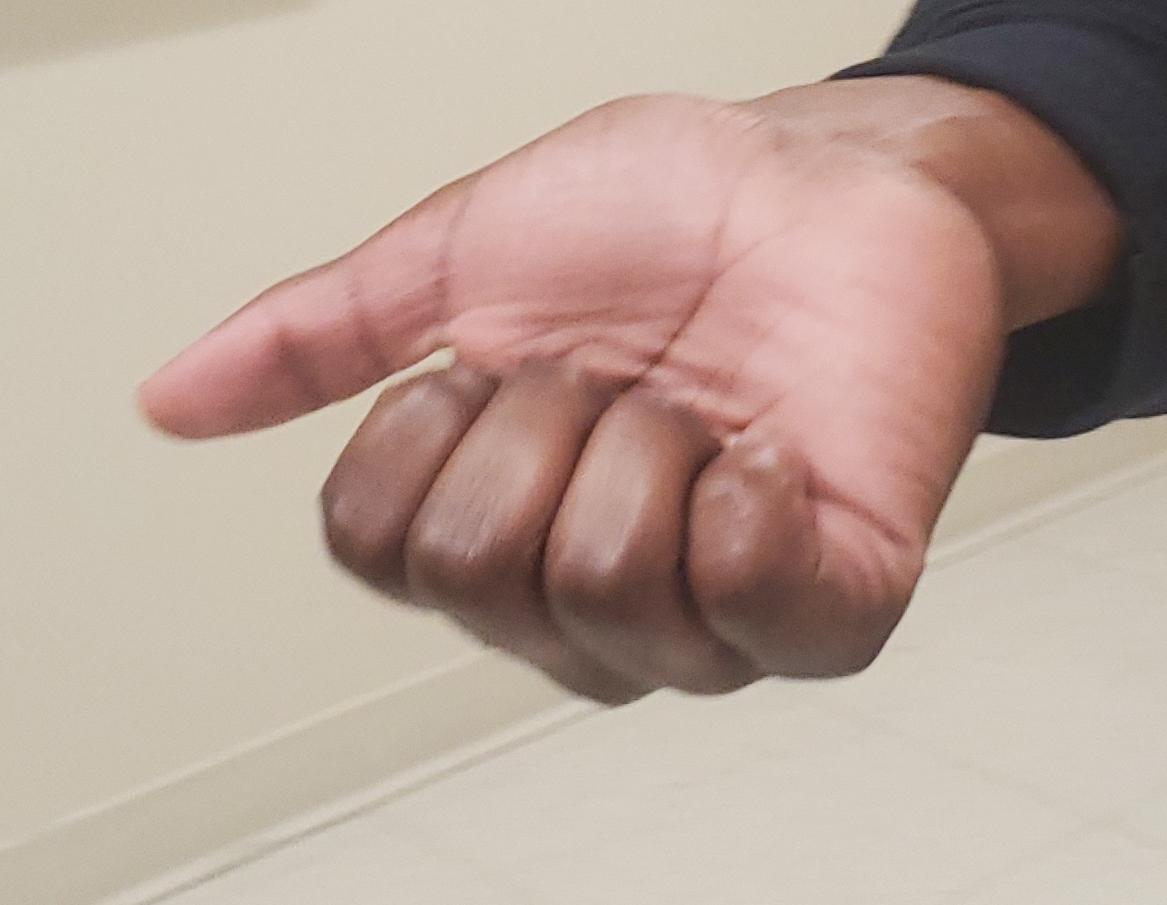right: (1, 0, 1167, 905)
